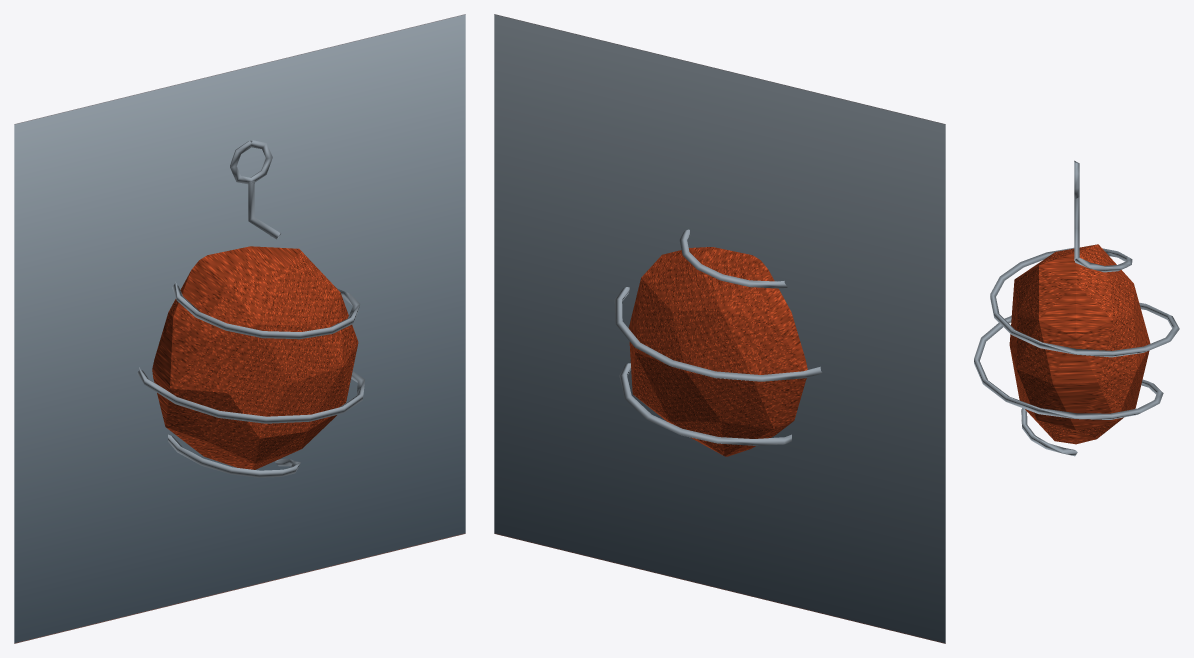
File: fruit_dough.glb
3 views of the same model, side by side, from view 1: azimuth 30°, elevation 25°; view 2: azimuth 150°, elevation 25°; view 3: azimuth 270°, elevation 25° (orthographic). The views are drawn at different scales.
Visible parts, largest first — view 1: fruit_dough__Hook_cluster_and_branches_ALPHA, fruit_dough__Groundbait_lump_MESH, fruit_dough__Feeder_spring_MESH, fruit_dough__Line_tie_eye_MESH; view 2: fruit_dough__Hook_cluster_and_branches_ALPHA, fruit_dough__Groundbait_lump_MESH, fruit_dough__Feeder_spring_MESH; view 3: fruit_dough__Groundbait_lump_MESH, fruit_dough__Feeder_spring_MESH, fruit_dough__Eye_to_spring_MESH.
Boxes of the visible parts, x1,y1,x2,y2 form: fruit_dough__Hook_cluster_and_branches_ALPHA: (14, 14, 465, 643); fruit_dough__Groundbait_lump_MESH: (152, 246, 358, 469); fruit_dough__Feeder_spring_MESH: (137, 232, 364, 477); fruit_dough__Line_tie_eye_MESH: (230, 140, 272, 184); fruit_dough__Hook_cluster_and_branches_ALPHA: (494, 14, 945, 643); fruit_dough__Groundbait_lump_MESH: (628, 247, 807, 456); fruit_dough__Feeder_spring_MESH: (614, 229, 822, 445); fruit_dough__Groundbait_lump_MESH: (1009, 244, 1150, 444); fruit_dough__Feeder_spring_MESH: (974, 247, 1179, 456); fruit_dough__Eye_to_spring_MESH: (1074, 197, 1079, 260).
Size of the model in its own units: 0.1 by 0.11 by 0.0463.
3 materials, 2 textured.
